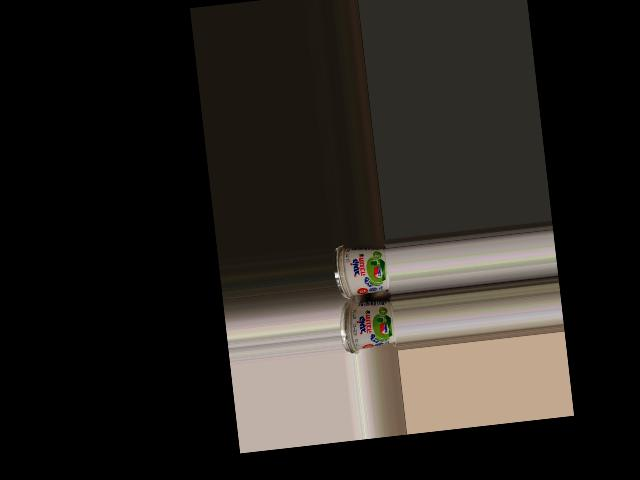cotage: (333, 244, 391, 300)
